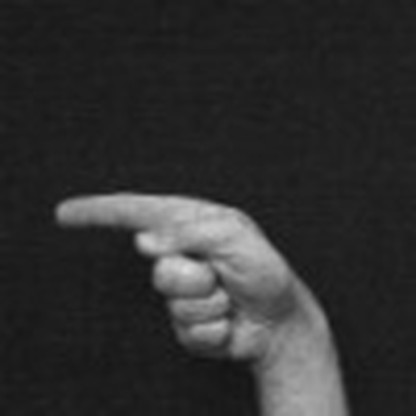g: (50, 188, 289, 370)
